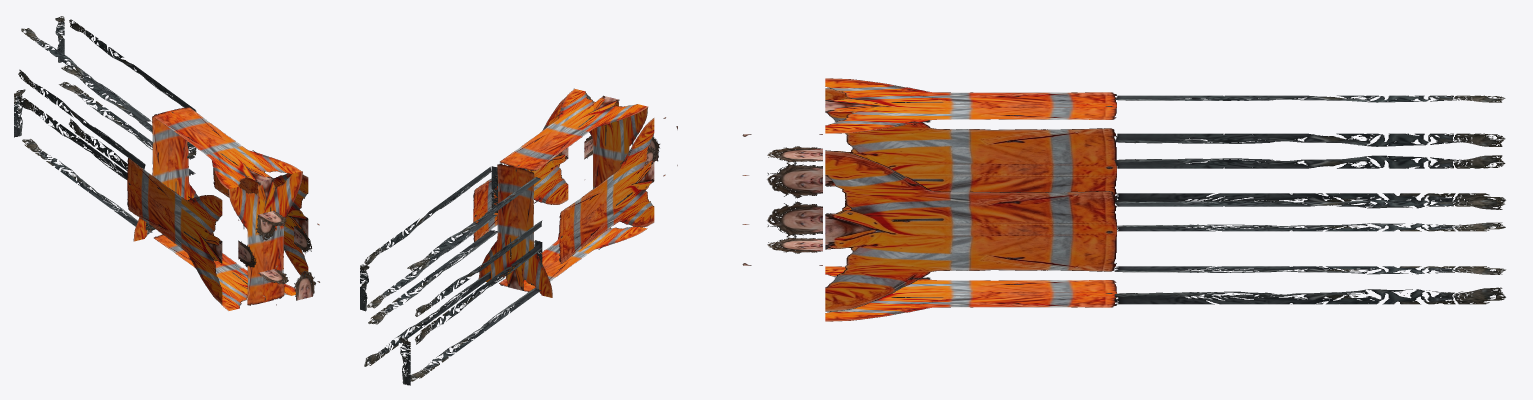
Rendered from standing_waving.obj.
3 views of the same model, side by side, from view 1: azimuth 30°, elevation 25°; view 2: azimuth 150°, elevation 25°; view 3: azimuth 270°, elevation 25° (orthographic). The views are drawn at different scales.
Bounding box in the file's own units: 0.34 × 0.84 × 1.81.
Materials: 1 (1 with a texture image).
